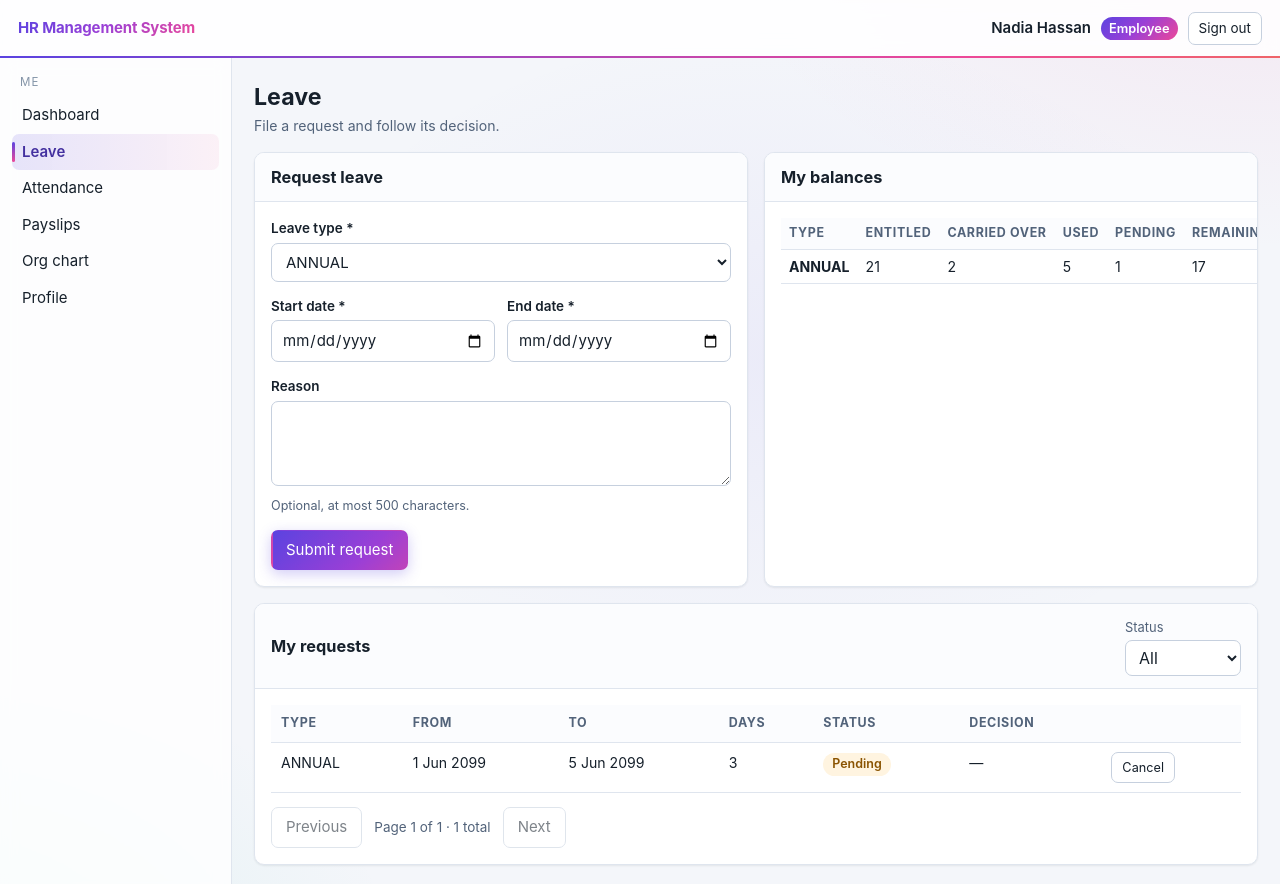
leave page › files a request and shows the working days the API computed
Type "2099-06-01" into the date field labelled "Start date *" at (383, 341), box [271, 320, 495, 362]
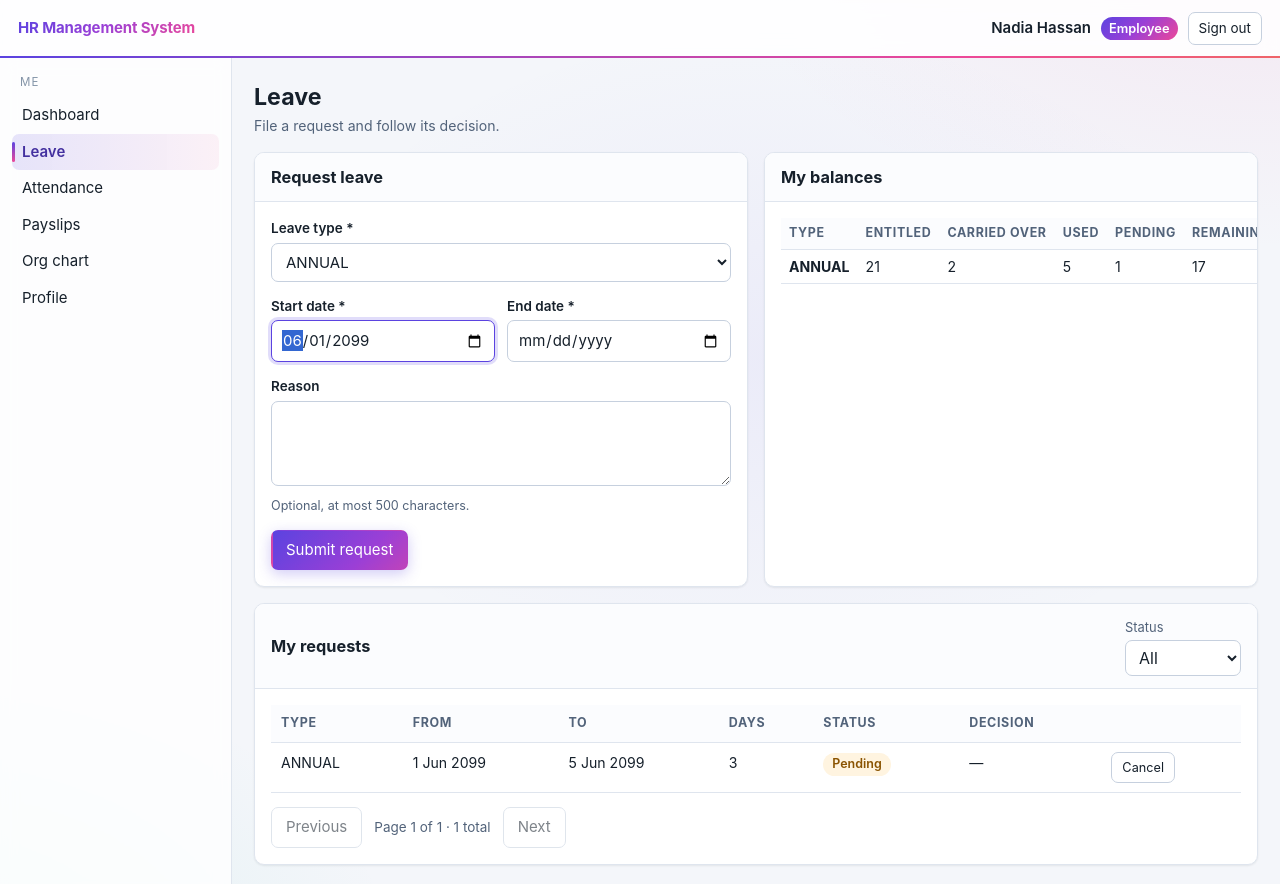
Type "2099-06-05" into the date field labelled "End date *" at (619, 341), box [507, 320, 731, 362]
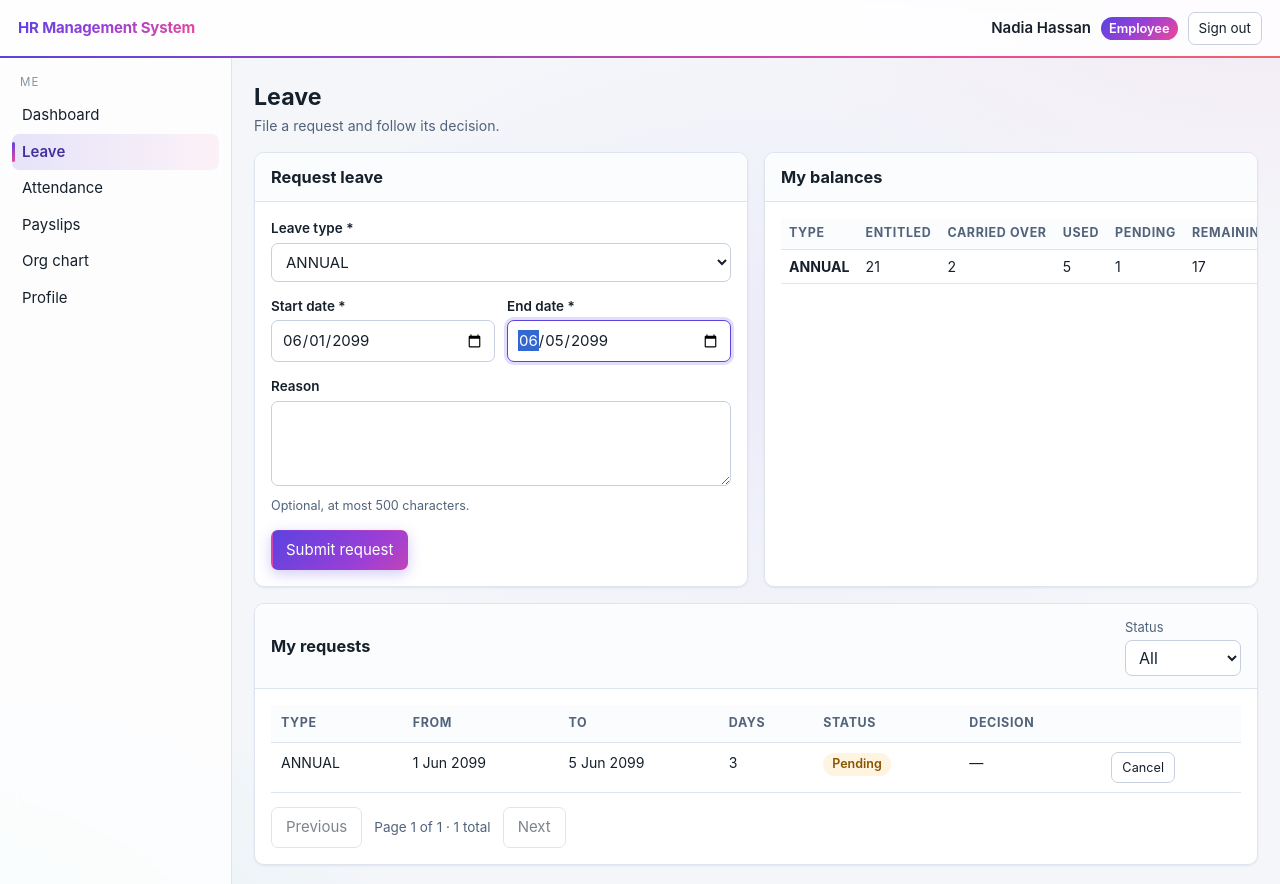
Click the button "Submit request" at (340, 550), box [271, 530, 408, 570]
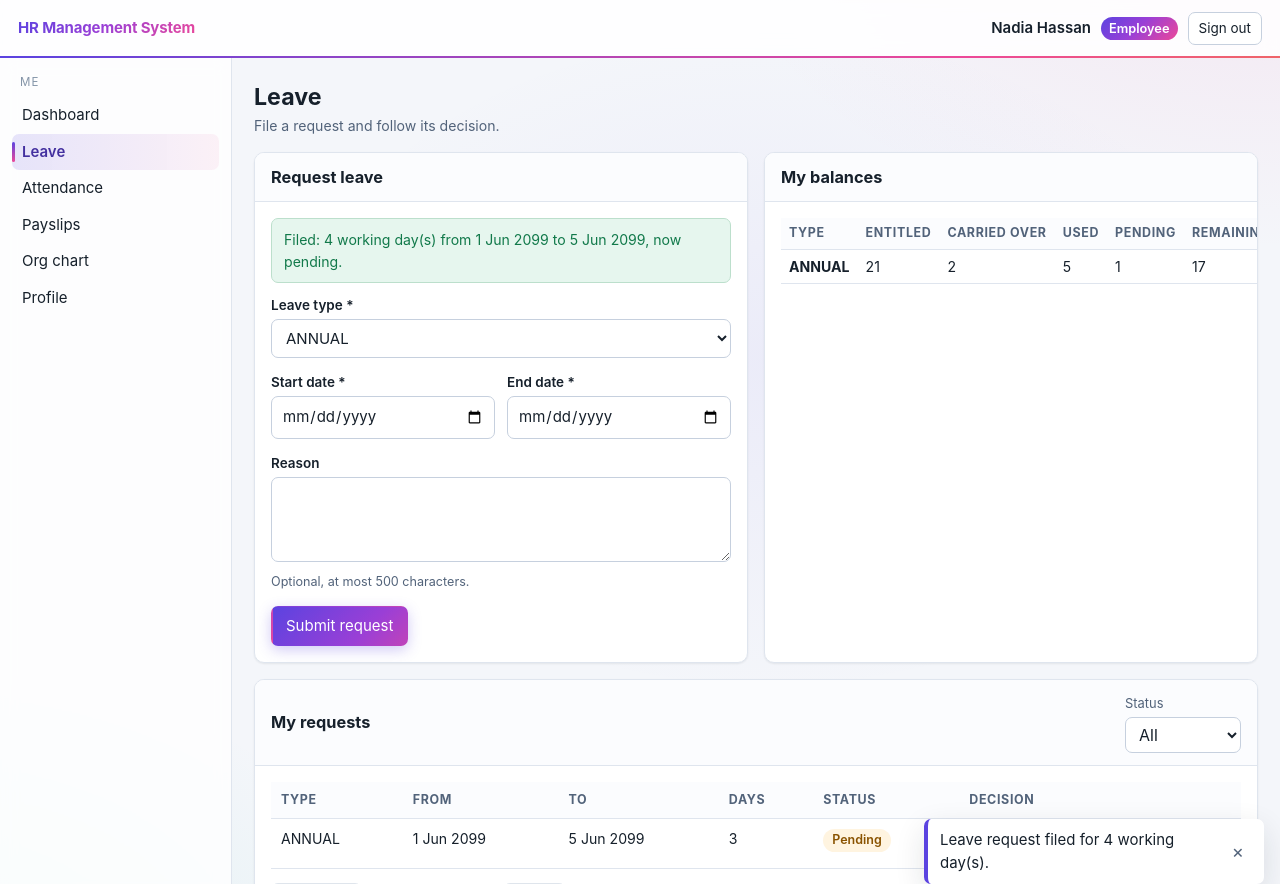
Result: the text "4 working day(s) from" is shown at [284, 229, 718, 272]
